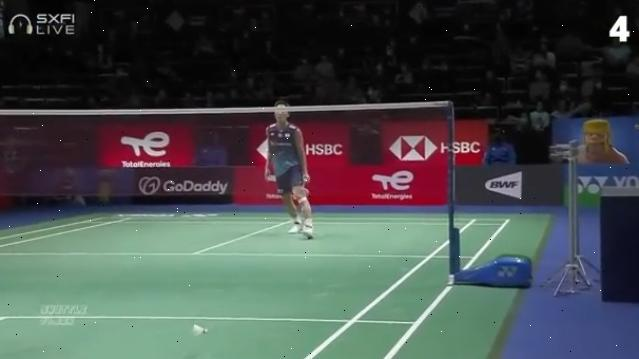Shuttlecock: (190, 320, 211, 340)
